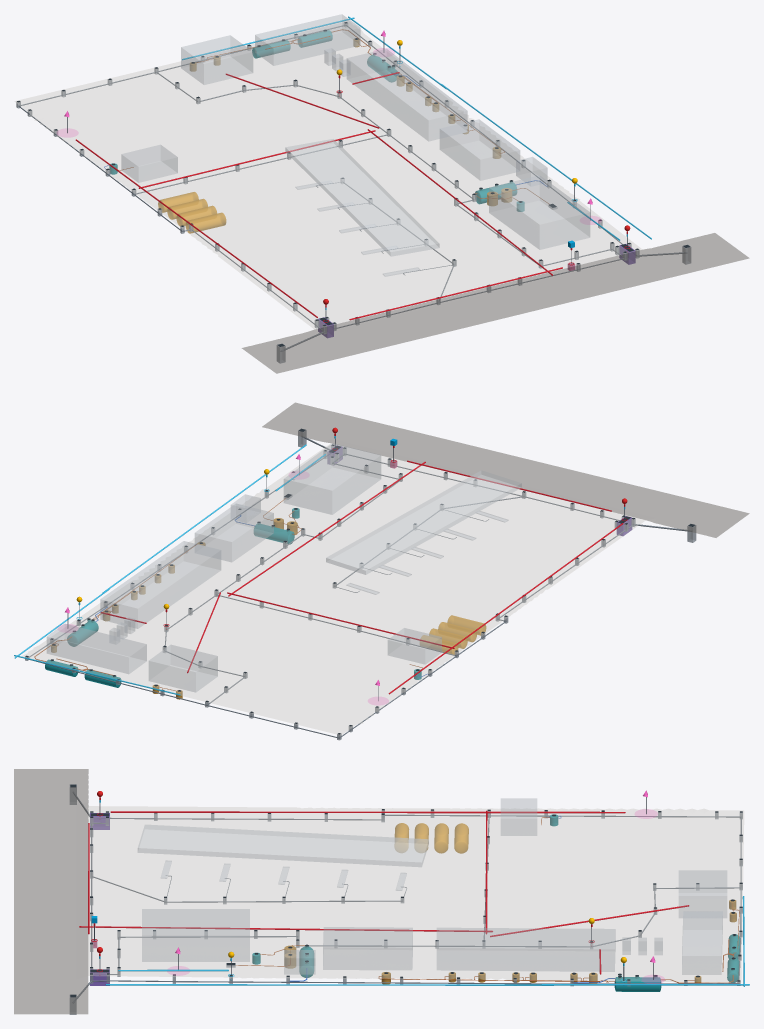
3 views of the same model, one above another, from view 1: azimuth 30°, elevation 25°; view 2: azimuth 150°, elevation 25°; view 3: azimuth 270°, elevation 25° (orthographic). The views are drawn at different scales.
Parts seen in each view (by area): view 1: Forecourt and paving (taken as flat), Highway 3256 side and entrances, Pump canopy, Shop row (6 units), KFC, Toilets, Large shop unit, North shop units (2 units), Small building beside the car wash slab, Site drain: car wash side, shop fronts and round KFC to the , Pump room and water tanks, Pump islands (5) (+1 smaller); view 2: Forecourt and paving (taken as flat), Highway 3256 side and entrances, Pump canopy, Shop row (6 units), KFC, Toilets, Large shop unit, North shop units (2 units), Small building beside the car wash slab, Site drain: car wash side, shop fronts and round KFC to the , Pump room and water tanks, Pump islands (5); view 3: Forecourt and paving (taken as flat), Highway 3256 side and entrances, Pump canopy, Shop row (6 units), KFC, Large shop unit, Toilets, G2.1 water route (final design) (×3), North shop units (2 units), Small building beside the car wash slab, Site drain: west side to the west outfall trap, Site drain: east side to the east outfall trap (+7 smaller).
Boxes of the visible parts, left/top/right/bottom form: Forecourt and paving (taken as flat): left=14, top=21, right=641, bottom=329; Highway 3256 side and entrances: left=242, top=233, right=749, bottom=373; Pump canopy: left=285, top=139, right=439, bottom=256; Shop row (6 units): left=347, top=49, right=467, bottom=141; KFC: left=489, top=175, right=589, bottom=249; Toilets: left=255, top=14, right=360, bottom=65; Large shop unit: left=440, top=119, right=519, bottom=180; North shop units (2 units): left=181, top=35, right=252, bottom=84; Small building beside the car wash slab: left=121, top=145, right=177, bottom=182; Site drain: car wash side, shop fronts and round KFC to the : left=156, top=72, right=616, bottom=266; Pump room and water tanks: left=516, top=157, right=547, bottom=186; Pump islands (5): left=295, top=181, right=419, bottom=276; Forecourt and paving (taken as flat): left=23, top=443, right=645, bottom=735; Highway 3256 side and entrances: left=262, top=402, right=749, bottom=537; Pump canopy: left=326, top=470, right=521, bottom=574; Shop row (6 units): left=100, top=541, right=220, bottom=628; KFC: left=284, top=443, right=380, bottom=514; Toilets: left=47, top=624, right=146, bottom=673; Large shop unit: left=195, top=503, right=273, bottom=562; North shop units (2 units): left=149, top=645, right=217, bottom=692; Small building beside the car wash slab: left=388, top=628, right=441, bottom=664; Site drain: car wash side, shop fronts and round KFC to the : left=165, top=460, right=400, bottom=704; Pump room and water tanks: left=231, top=494, right=260, bottom=522; Pump islands (5): left=346, top=511, right=508, bottom=594; Forecourt and paving (taken as flat): left=88, top=806, right=743, bottom=983; Highway 3256 side and entrances: left=14, top=769, right=88, bottom=1014; Pump canopy: left=137, top=824, right=428, bottom=867; Shop row (6 units): left=437, top=928, right=615, bottom=971; KFC: left=142, top=909, right=249, bottom=961; Large shop unit: left=323, top=927, right=412, bottom=969; Toilets: left=682, top=911, right=722, bottom=974; G2.1 water route (final design) (×3): left=79, top=811, right=689, bottom=936; North shop units (2 units): left=679, top=870, right=726, bottom=917; Small building beside the car wash slab: left=501, top=798, right=536, bottom=835; Site drain: west side to the west outfall trap: left=110, top=814, right=740, bottom=820; Site drain: east side to the east outfall trap: left=108, top=980, right=738, bottom=984.
Bounding box in the file's own units: 98 × 9.9 × 124.
